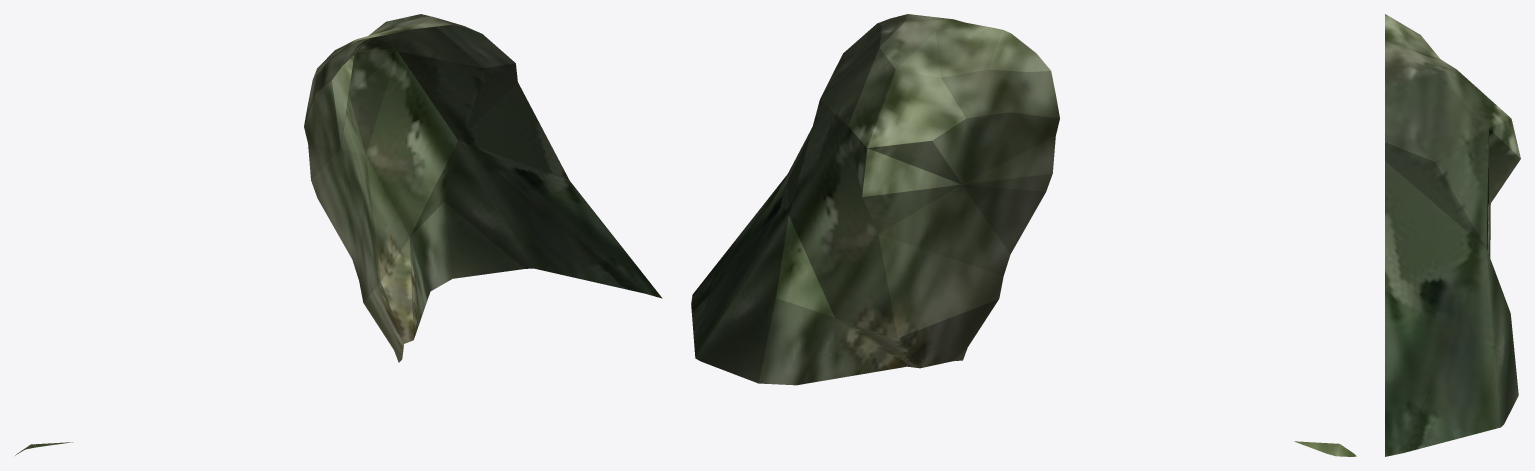
3 views of the same model, side by side, from view 1: azimuth 30°, elevation 25°; view 2: azimuth 150°, elevation 25°; view 3: azimuth 270°, elevation 25° (orthographic). The views are drawn at different scales.
Bounding box in the file's own units: 2.2 × 1.08 × 0.4351.
1 material, 1 textured.
